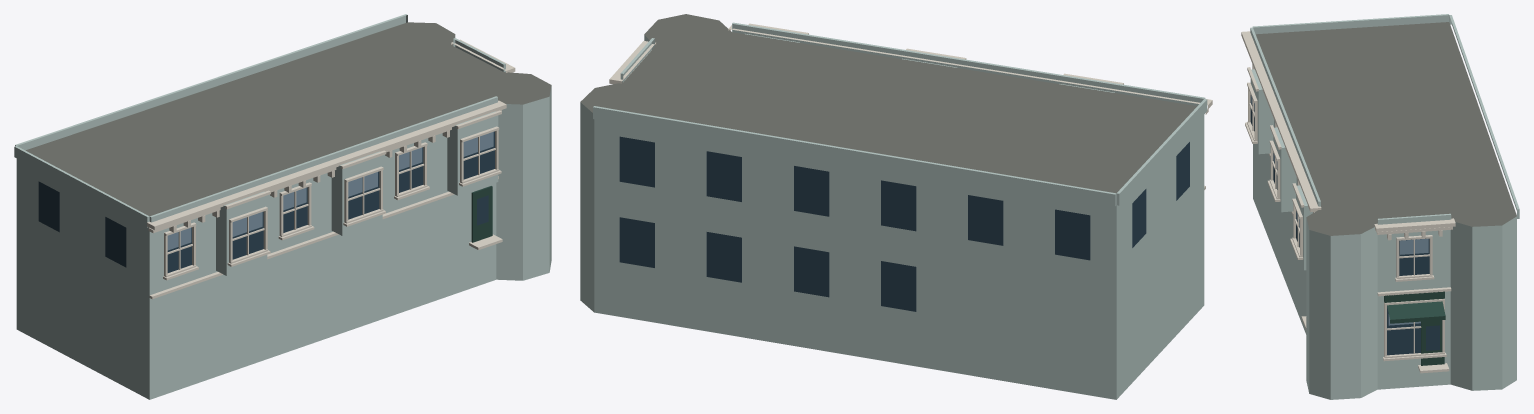
The picture shows the model from 3 angles, left to right: view 1: azimuth 30°, elevation 25°; view 2: azimuth 150°, elevation 25°; view 3: azimuth 270°, elevation 25°; orthographic projection. The views are drawn at different scales.
Parts seen in each view (by area): view 1: Footprint 0 / surface 2, Footprint 0 / surface 1, Facade bay volumes, Cornices and window frames, Inset glazing, Sky reflection panels, Storefronts and doors; view 2: Footprint 0 / surface 2, Footprint 0 / surface 1, Inset glazing, Facade bay volumes, Cornices and window frames; view 3: Footprint 0 / surface 1, Footprint 0 / surface 2, Cornices and window frames, Facade bay volumes, Inset glazing, Storefronts and doors, Sky reflection panels.
Part boxes in pixels (bbox=[...]): Footprint 0 / surface 2: bbox=[16, 35, 551, 399]; Footprint 0 / surface 1: bbox=[25, 22, 551, 216]; Facade bay volumes: bbox=[14, 14, 505, 275]; Cornices and window frames: bbox=[147, 39, 515, 299]; Inset glazing: bbox=[38, 131, 494, 272]; Sky reflection panels: bbox=[167, 132, 493, 250]; Storefronts and doors: bbox=[471, 186, 492, 242]; Footprint 0 / surface 2: bbox=[580, 35, 1204, 399]; Footprint 0 / surface 1: bbox=[580, 14, 1197, 193]; Inset glazing: bbox=[619, 136, 1189, 311]; Facade bay volumes: bbox=[593, 22, 1207, 206]; Cornices and window frames: bbox=[609, 23, 1212, 189]; Footprint 0 / surface 1: bbox=[1255, 22, 1516, 235]; Footprint 0 / surface 2: bbox=[1253, 120, 1516, 399]; Cornices and window frames: bbox=[1241, 31, 1455, 373]; Facade bay volumes: bbox=[1250, 14, 1519, 270]; Inset glazing: bbox=[1250, 95, 1439, 355]; Storefronts and doors: bbox=[1384, 291, 1445, 365]; Sky reflection panels: bbox=[1251, 95, 1428, 325].
Size of the model in its own units: 23.5 by 8.7 by 12.85.
